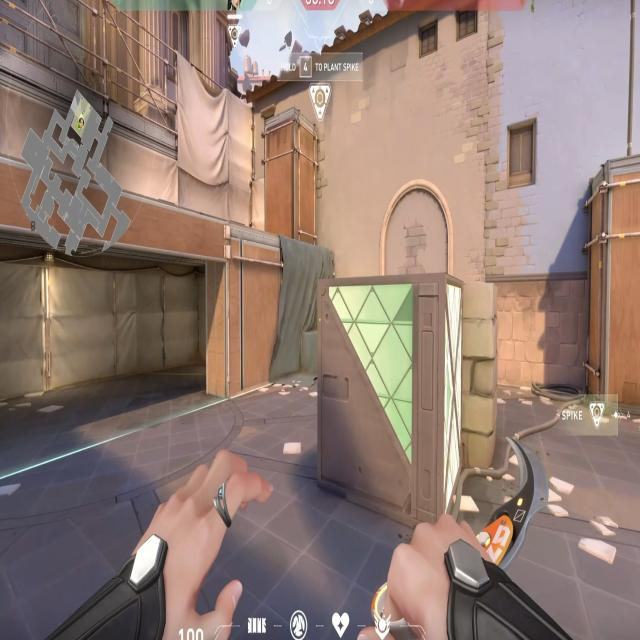A_Heaven_Box: (265, 109, 321, 246)
A_Hell: (0, 164, 234, 446)
